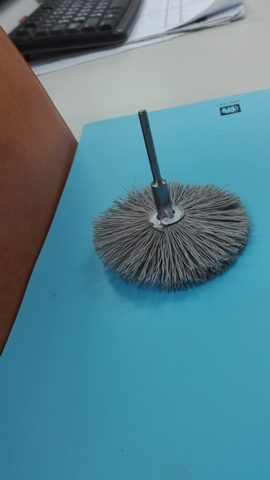TOOL: (107, 82, 255, 342), (62, 103, 255, 297), (66, 173, 270, 294)
